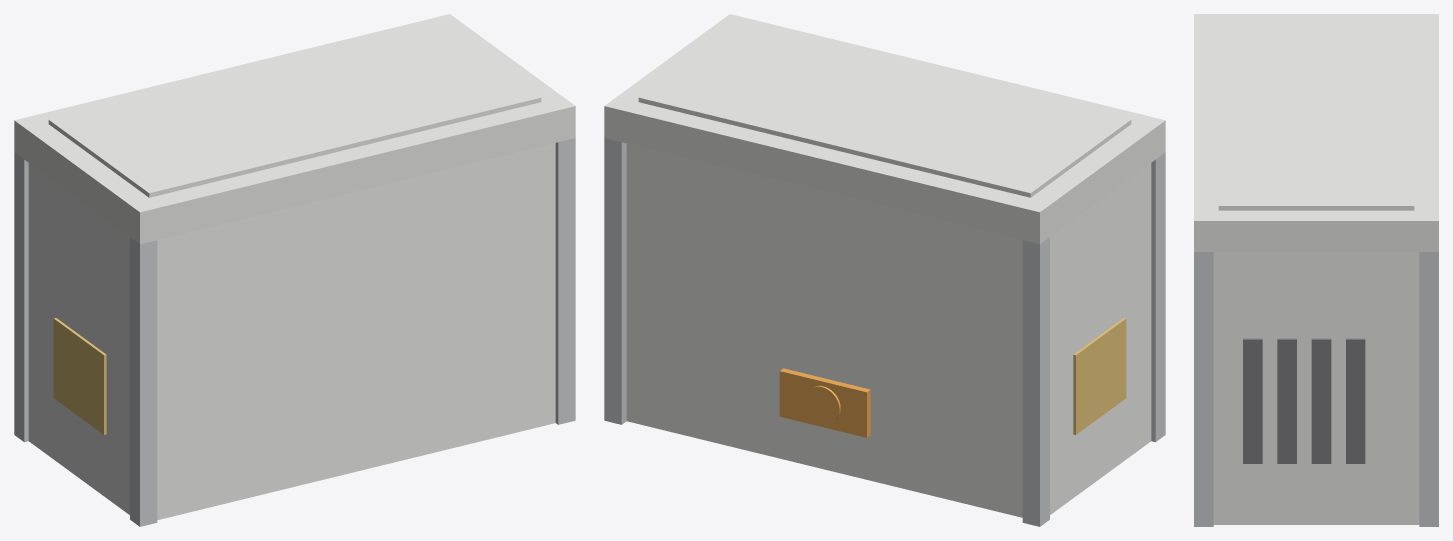
The model's file is rover26_battery_bay_s.glb.
3 views of the same model, side by side, from view 1: azimuth 30°, elevation 25°; view 2: azimuth 150°, elevation 25°; view 3: azimuth 270°, elevation 25° (orthographic). The views are drawn at different scales.
Parts seen in each view (by area): view 1: body, lid, frame, gold_label; view 2: body, lid, frame, port_connector, gold_label; view 3: lid, body, frame, vents.
Part boxes in pixels (x1=…): body: x1=28, y1=143, x2=555, y2=520; lid: x1=14, y1=14, x2=575, y2=244; frame: x1=14, y1=138, x2=575, y2=526; gold_label: x1=53, y1=318, x2=106, y2=434; body: x1=626, y1=143, x2=1151, y2=517; lid: x1=604, y1=14, x2=1165, y2=244; frame: x1=604, y1=138, x2=1165, y2=526; port_connector: x1=779, y1=368, x2=870, y2=437; gold_label: x1=1073, y1=318, x2=1126, y2=434; lid: x1=1194, y1=14, x2=1438, y2=251; body: x1=1213, y1=252, x2=1419, y2=524; frame: x1=1194, y1=252, x2=1438, y2=526; vents: x1=1243, y1=338, x2=1365, y2=463.
Bounding box in the file's own units: 1 × 0.7 × 0.5.
